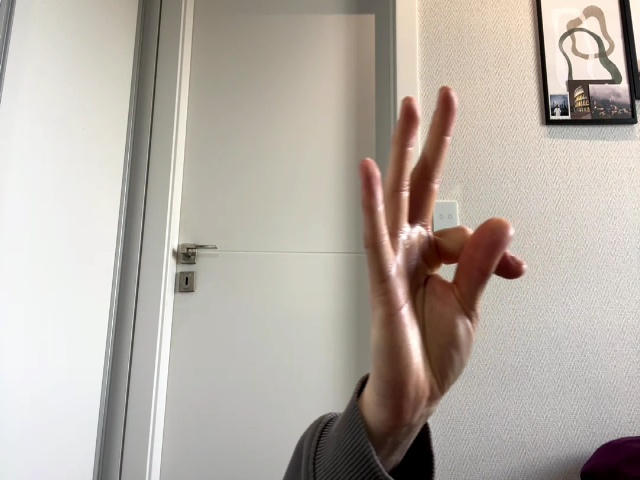T: (360, 86, 527, 407)
